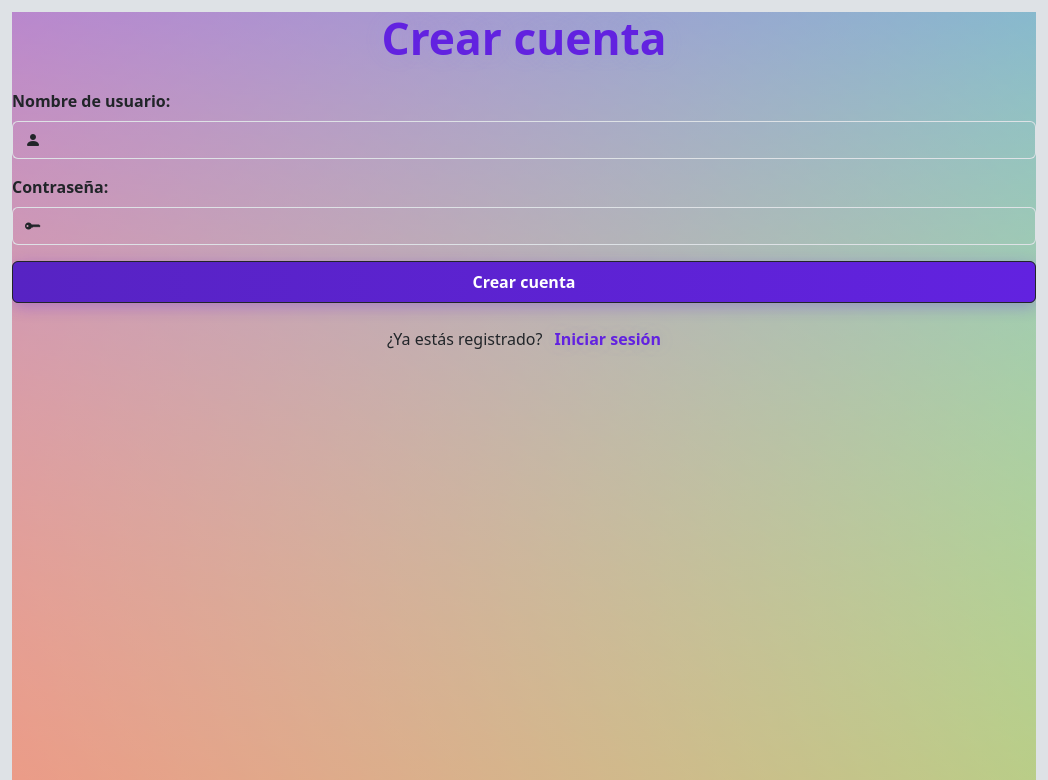
Test case: RegisterForm › try register existing user
Type "test-username" into the field labelled "Nombre de usuario:".
click(544, 140); type("test-username")  # box [52,121,1036,159]
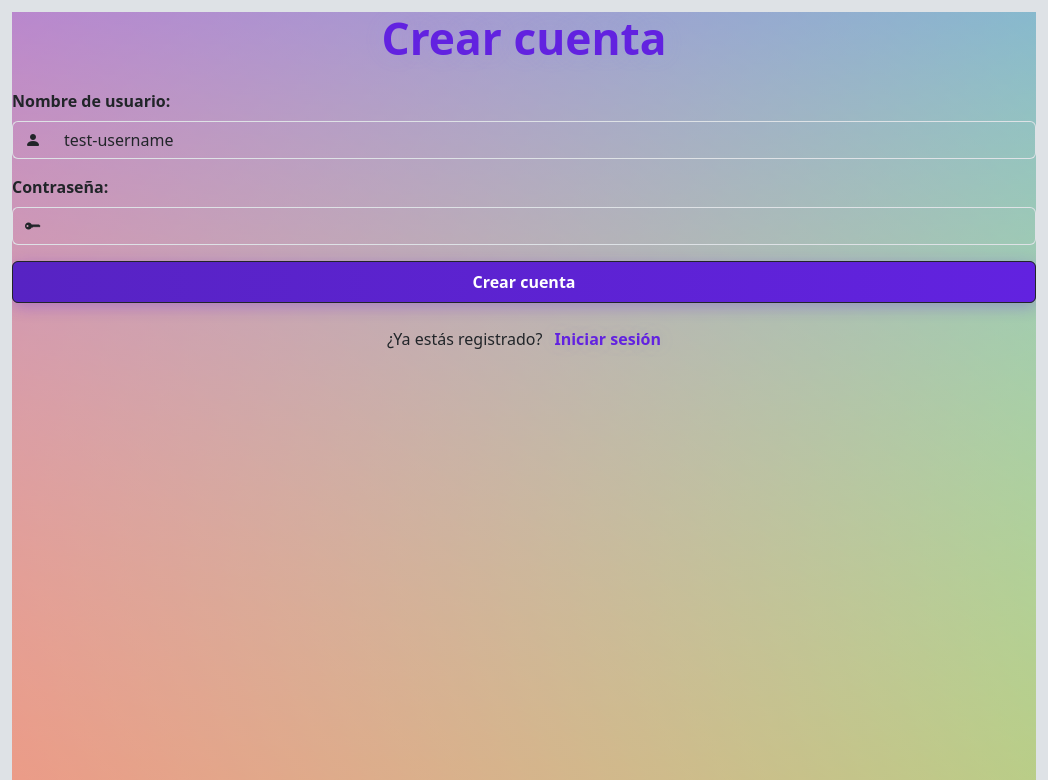
Type "testpassword" into the password field labelled "Contraseña:".
click(544, 226); type("testpassword")  # box [52,207,1036,245]
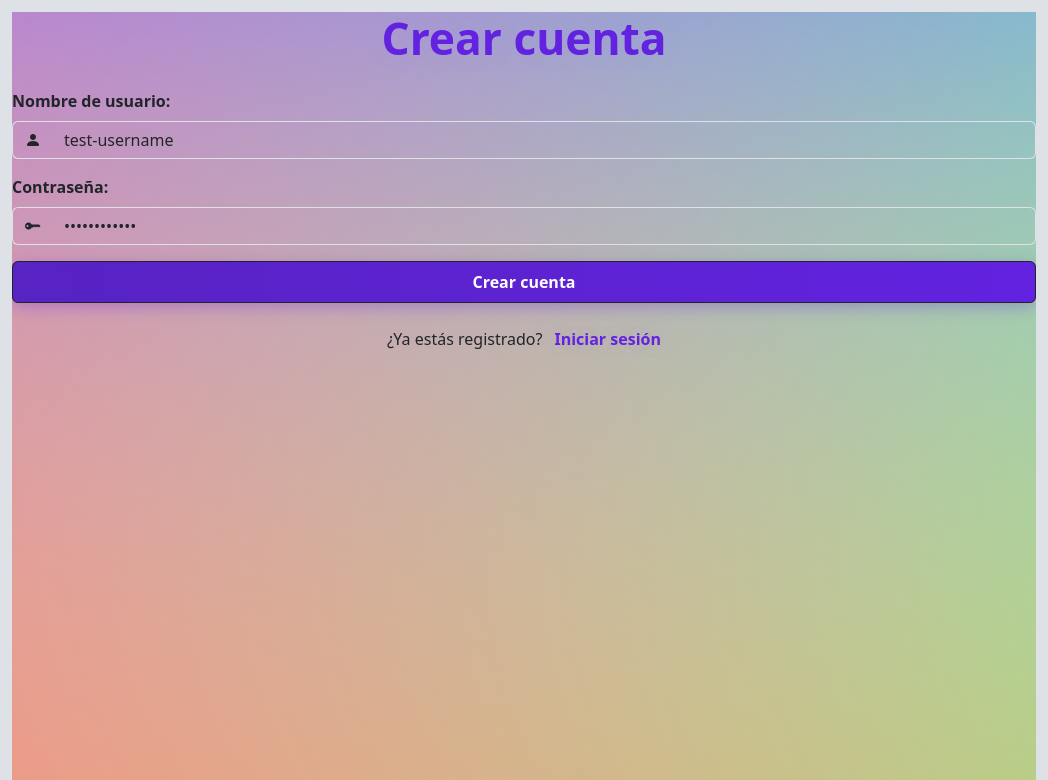
Click the button "Crear cuenta".
click(524, 282)  # box [12,261,1036,303]
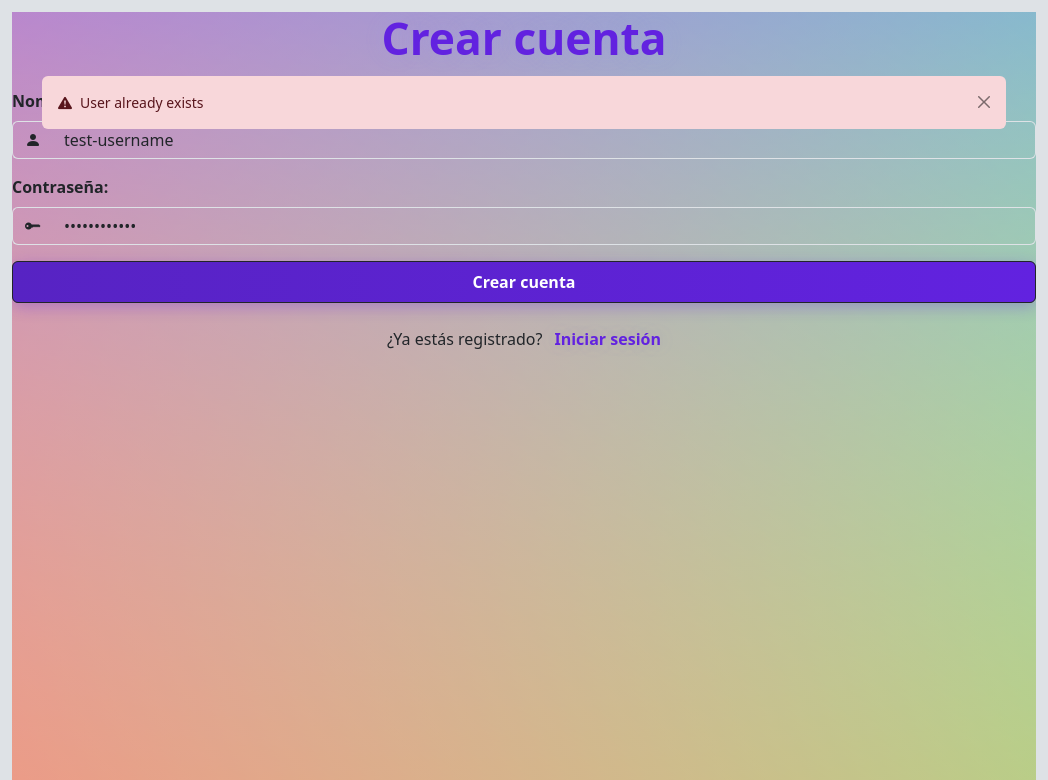
Check: the text "User already exists" is shown, box [80,93,204,112]
